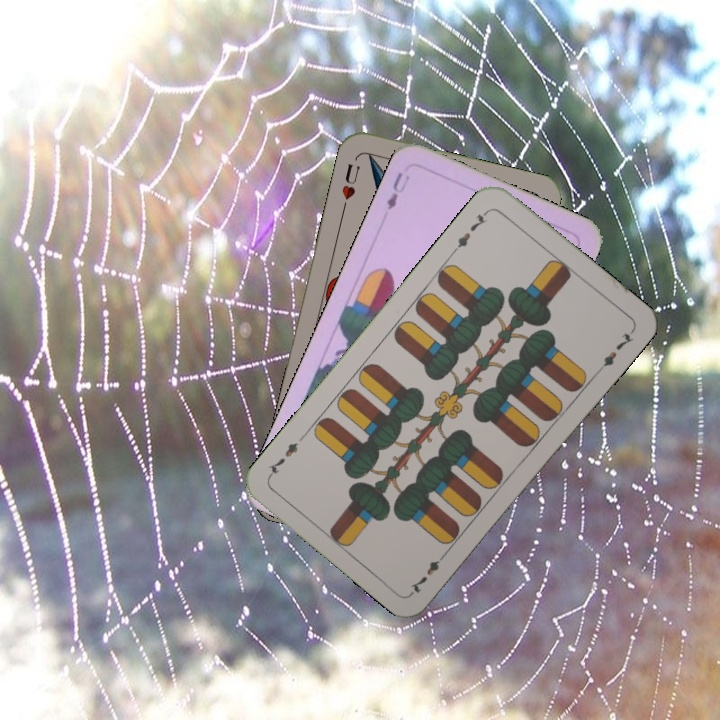E7: (406, 547, 450, 596), (449, 206, 492, 255)
EU: (382, 167, 412, 213)
HU: (337, 159, 363, 213)
